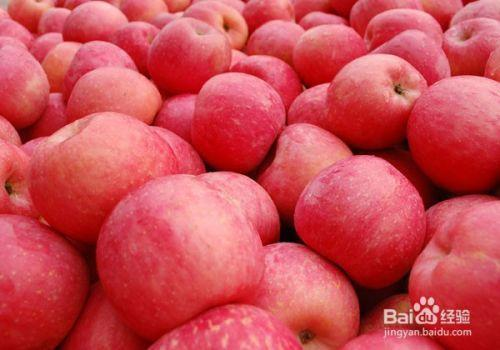apple: (94, 176, 267, 336), (22, 111, 179, 242), (294, 156, 420, 290), (407, 202, 500, 350), (1, 211, 88, 348), (256, 238, 360, 350), (405, 74, 499, 196), (326, 55, 429, 151), (193, 72, 285, 173), (261, 123, 352, 224), (145, 16, 231, 96), (66, 68, 166, 127), (1, 38, 50, 133), (182, 2, 247, 52), (443, 17, 500, 74), (61, 1, 125, 42)
